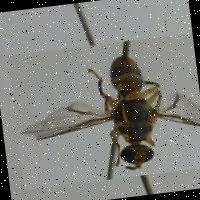Oriental-fruit-fly: (8, 32, 200, 189)
